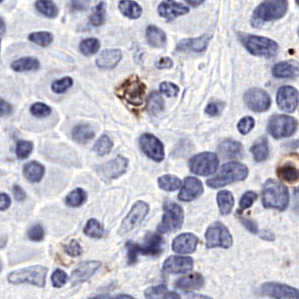Lymphocyte: (114, 74, 150, 113)
